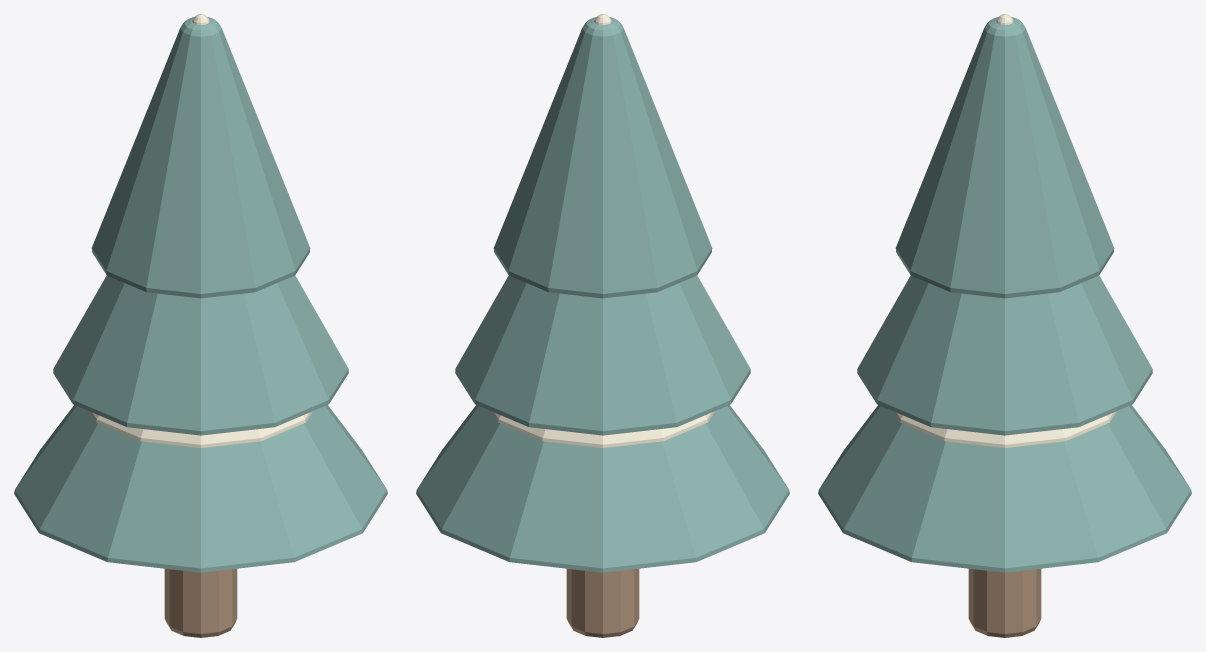
Rendered from pine.glb.
3 renders of one model, left to right at view 1: azimuth 30°, elevation 25°; view 2: azimuth 150°, elevation 25°; view 3: azimuth 270°, elevation 25°, orthographic.
Parts seen in each view (by area): view 1: Sculpt__Pine, Sculpt__Honey oak, Sculpt__Ivory; view 2: Sculpt__Pine, Sculpt__Honey oak, Sculpt__Ivory; view 3: Sculpt__Pine, Sculpt__Honey oak, Sculpt__Ivory.
Boxes of the visible parts, box(x1,y1,x2,y2) form: Sculpt__Pine: box(14, 17, 387, 572); Sculpt__Honey oak: box(164, 568, 237, 637); Sculpt__Ivory: box(89, 14, 312, 447); Sculpt__Pine: box(416, 17, 789, 572); Sculpt__Honey oak: box(566, 568, 639, 637); Sculpt__Ivory: box(491, 14, 714, 447); Sculpt__Pine: box(818, 17, 1191, 572); Sculpt__Honey oak: box(968, 568, 1041, 637); Sculpt__Ivory: box(893, 14, 1116, 447).
Bounding box in the file's own units: 1.24 × 2.23 × 1.24.
